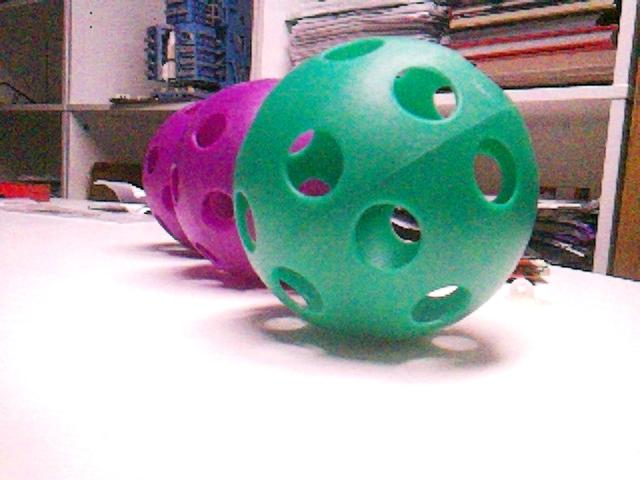Green: (235, 38, 539, 337)
Purple: (169, 82, 285, 285), (144, 98, 200, 258)
